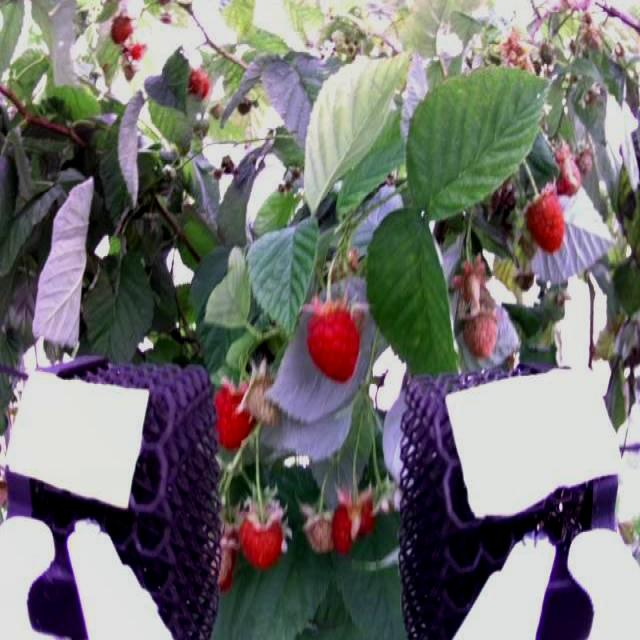Riped berries: (306, 298, 360, 382), (210, 370, 258, 447), (240, 500, 286, 569), (526, 188, 570, 255), (333, 488, 377, 549), (190, 65, 212, 99)
